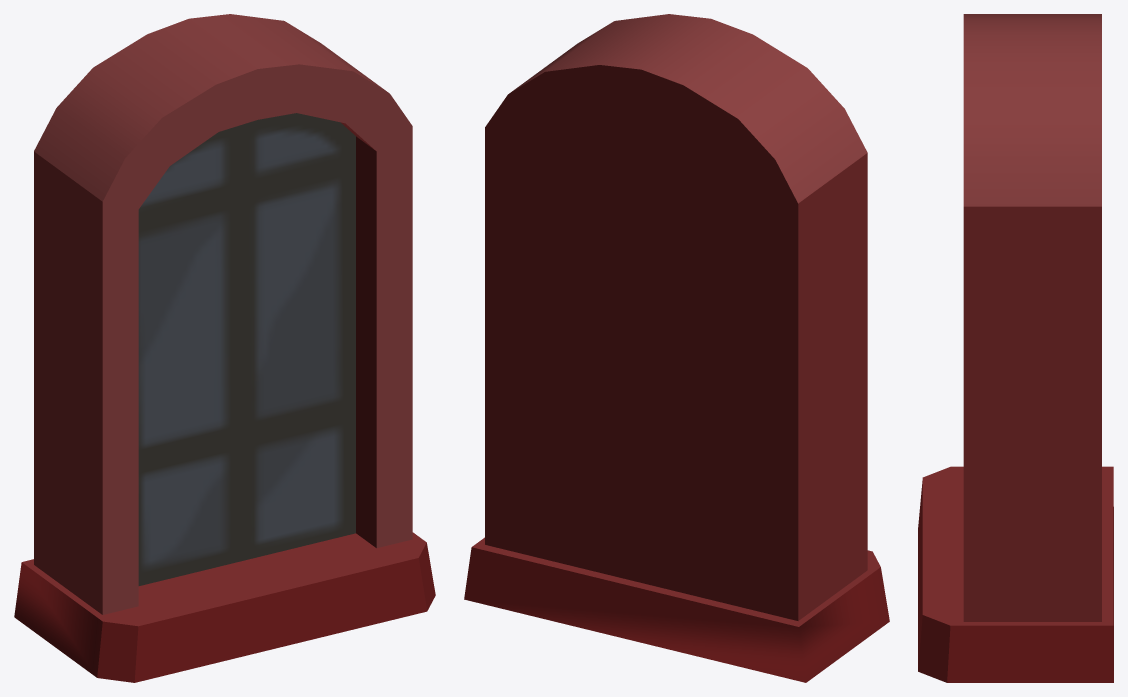
The model's file is Door_A01.fbx.
3 views of the same model, side by side, from view 1: azimuth 30°, elevation 25°; view 2: azimuth 150°, elevation 25°; view 3: azimuth 270°, elevation 25° (orthographic).
Parts seen in each view (by area): view 1: Door_A01; view 2: Door_A01; view 3: Door_A01.
Part boxes in pixels (x1=…): Door_A01: x1=14, y1=14, x2=435, y2=682; Door_A01: x1=464, y1=14, x2=889, y2=682; Door_A01: x1=918, y1=14, x2=1113, y2=682.
Bounding box in the file's own units: 227 × 359 × 113.
1 material, 1 textured.
